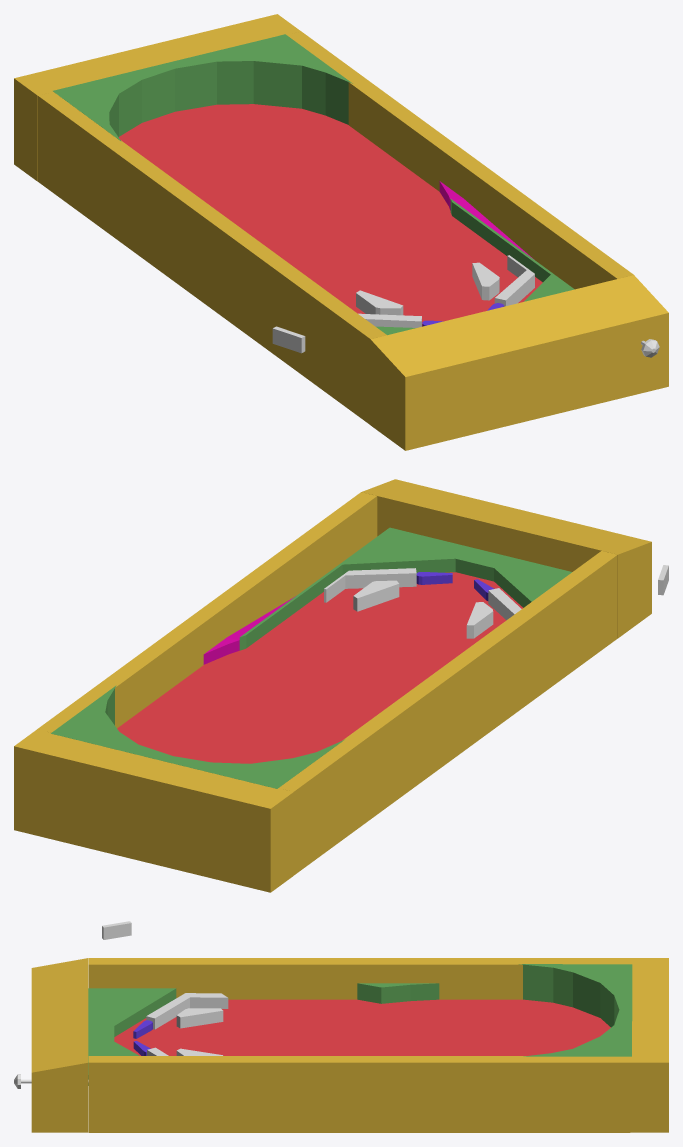
File: table.glb
3 views of the same model, one above another, from view 1: azimuth 30°, elevation 25°; view 2: azimuth 150°, elevation 25°; view 3: azimuth 270°, elevation 25° (orthographic). The views are drawn at different scales.
Visible parts, largest first — view 1: floor, near wall, left wall, back durve, right wall, back wall, base funnel, lefft passage.001, left shoot, left shoot.001, shoot ramp, lefft passage; view 2: floor, left wall, back wall, right wall, near wall, base funnel, back durve, lefft passage.001, left shoot.001, shoot ramp, left shoot, lefft passage; view 3: right wall, floor, left wall, near wall, back durve, back wall, base funnel, redirector, lefft passage, left shoot, Cube.
Boxes of the visible parts, x1,y1,x2,y2 form: floor: (119, 104, 542, 326); near wall: (370, 275, 668, 450); left wall: (38, 92, 386, 424); back durve: (53, 34, 352, 141); right wall: (287, 31, 633, 289); back wall: (14, 14, 300, 181); base funnel: (376, 199, 574, 335); lefft passage.001: (494, 255, 534, 306); left shoot: (356, 290, 403, 315); left shoot.001: (472, 262, 499, 300); shoot ramp: (439, 181, 534, 259); lefft passage: (358, 313, 421, 327); floor: (117, 572, 522, 763); left wall: (278, 551, 617, 875); back wall: (14, 729, 293, 892); right wall: (37, 492, 377, 732); near wall: (361, 479, 651, 638); base funnel: (239, 527, 571, 650); back durve: (51, 685, 344, 788); lefft passage.001: (324, 568, 416, 602); left shoot.001: (353, 580, 399, 611); shoot ramp: (203, 596, 295, 664); left shoot: (466, 602, 493, 638); lefft passage: (488, 588, 521, 620); right wall: (88, 1056, 630, 1132); floor: (114, 999, 610, 1055); left wall: (88, 958, 630, 999); near wall: (31, 958, 88, 1132); back durve: (519, 964, 632, 1056); back wall: (630, 958, 668, 1132); base funnel: (88, 988, 176, 1085); redirector: (357, 983, 439, 1003); lefft passage: (146, 993, 228, 1029); left shoot: (176, 1008, 223, 1028); Cube: (102, 921, 131, 939).
Bounding box in the file's own units: 0.8165 × 0.2231 × 1.69.
